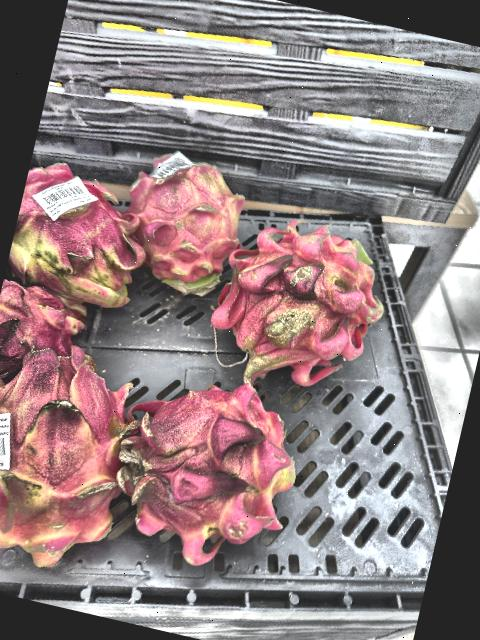buah-naga-belum-matang: (0, 334, 152, 584), (110, 148, 257, 298)
buah-naga-matang: (101, 360, 323, 584), (201, 200, 402, 407), (1, 154, 158, 316), (0, 270, 87, 393)
